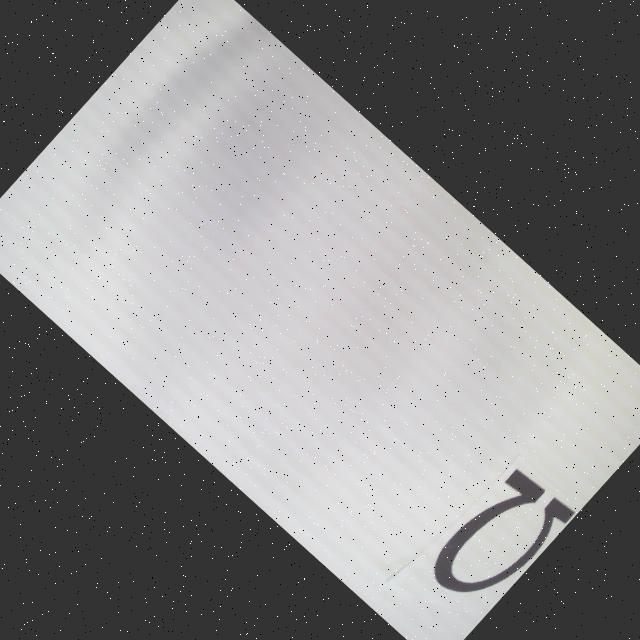OMEGA: (422, 462, 576, 621)
